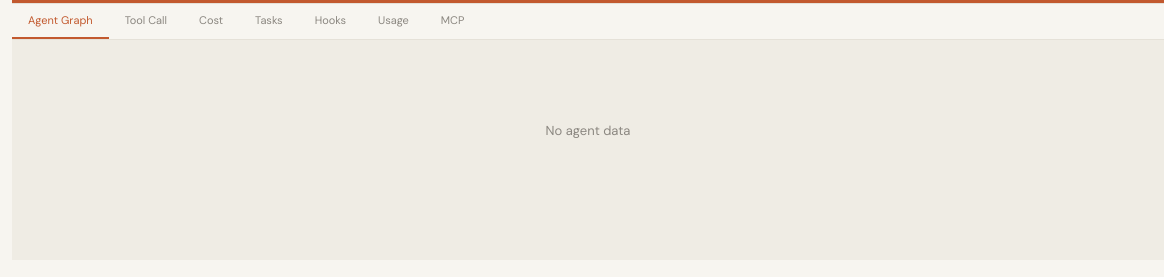
BottomPanel › Tasks tab auto-scoping › hides the scope label and shows no tasks when turns is empty
Click the button "Tasks": (269, 21) [239,4,299,38]
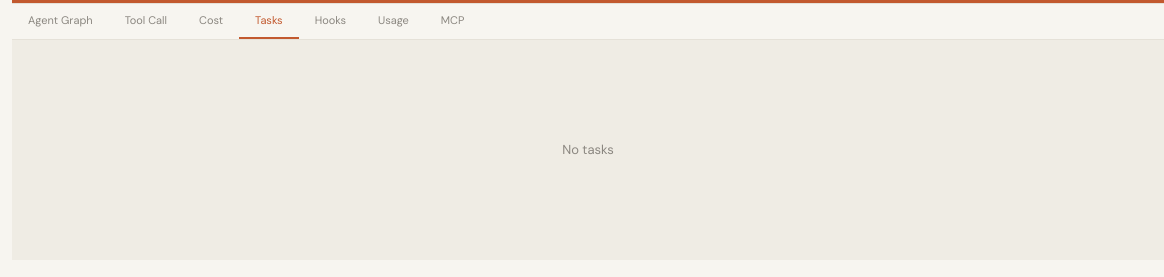
Expected: the text "No tasks" is shown, [562,141,614,158]
